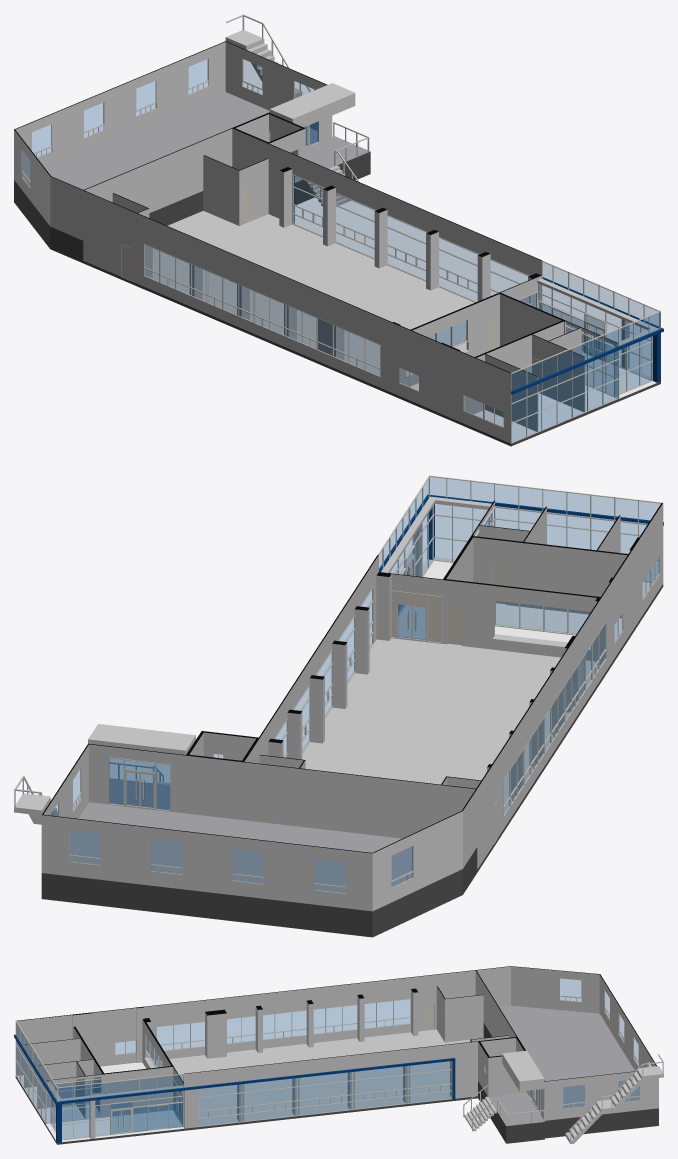
The picture shows the model from 3 angles, top to bottom: view 1: azimuth 30°, elevation 25°; view 2: azimuth 150°, elevation 25°; view 3: azimuth 270°, elevation 25°; orthographic projection. The views are drawn at different scales.
Visible parts, largest first — view 1: A4_1F_벽, A4_1F_창문, A4_1F_바닥, A4_외곽 난간, A4_1F_방화문, A4_1F_강화도어; view 2: A4_1F_벽, A4_1F_바닥, A4_1F_창문, A4_1F_강화도어, A4_외곽 난간, A4_1F_방화문; view 3: A4_1F_벽, A4_1F_바닥, A4_1F_창문, A4_외곽 난간, A4_1F_강화도어, A4_1F_방화문.
Part boxes in pixels (left/top/right/bottom): A4_1F_벽: left=14, top=41, right=663, bottom=442; A4_1F_창문: left=21, top=58, right=660, bottom=443; A4_1F_바닥: left=14, top=92, right=660, bottom=446; A4_외곽 난간: left=225, top=14, right=369, bottom=206; A4_1F_방화문: left=121, top=131, right=541, bottom=411; A4_1F_강화도어: left=304, top=125, right=604, bottom=361; A4_1F_벽: left=41, top=494, right=663, bottom=911; A4_1F_바닥: left=41, top=557, right=663, bottom=937; A4_1F_창문: left=50, top=475, right=663, bottom=894; A4_1F_강화도어: left=124, top=556, right=426, bottom=809; A4_외곽 난간: left=14, top=762, right=170, bottom=824; A4_1F_방화문: left=447, top=565, right=505, bottom=843; A4_1F_벽: left=14, top=966, right=658, bottom=1142; A4_1F_바닥: left=15, top=1005, right=658, bottom=1144; A4_1F_창문: left=15, top=978, right=651, bottom=1140; A4_외곽 난간: left=463, top=1054, right=663, bottom=1143; A4_1F_강화도어: left=92, top=1086, right=537, bottom=1134; A4_1F_방화문: left=76, top=1003, right=525, bottom=1110.
Size of the model in its own units: 25.37 by 6.93 by 56.77.
